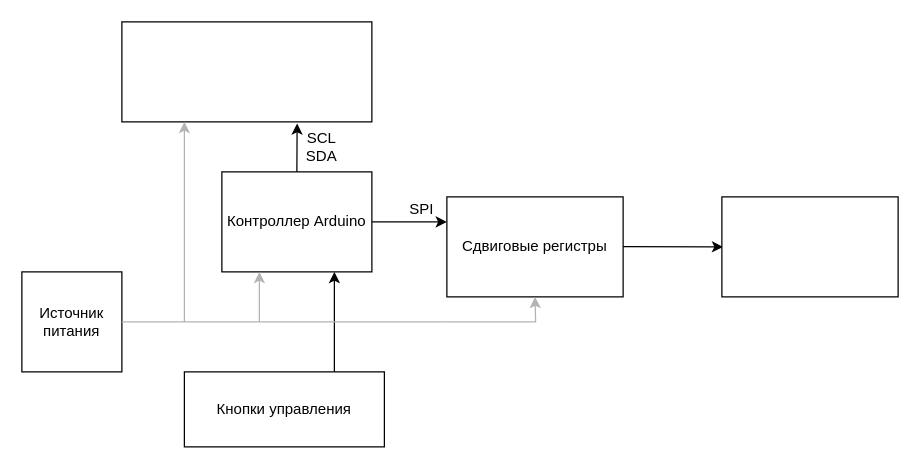
The diagram is 920 pixels wide and 469 high, and some of its shapes have lost their labels. Each missing label, with the centre of its shape:
"Дисплей" belongs at (246,71).
"Светодиоды" belongs at (809,246).
